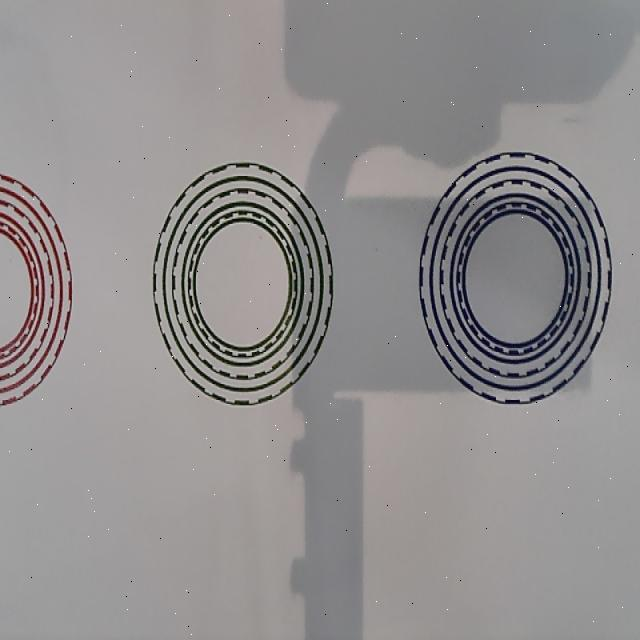b: (419, 151, 612, 404)
g: (152, 161, 334, 405)
